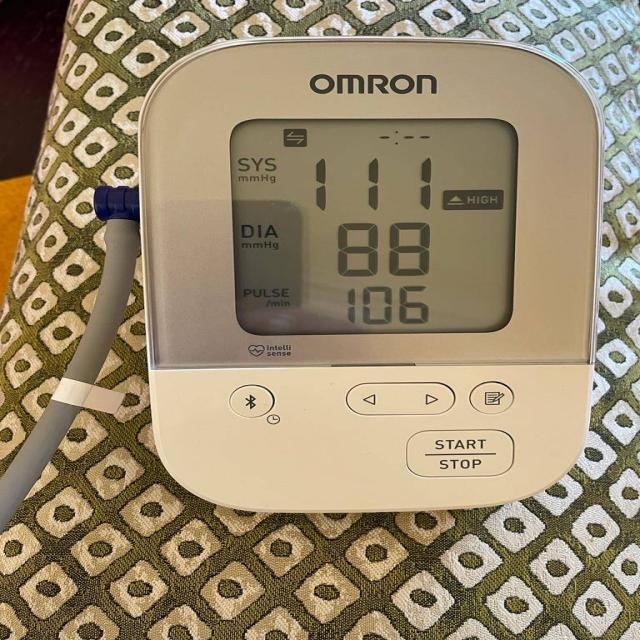bp: (136, 39, 600, 518)
